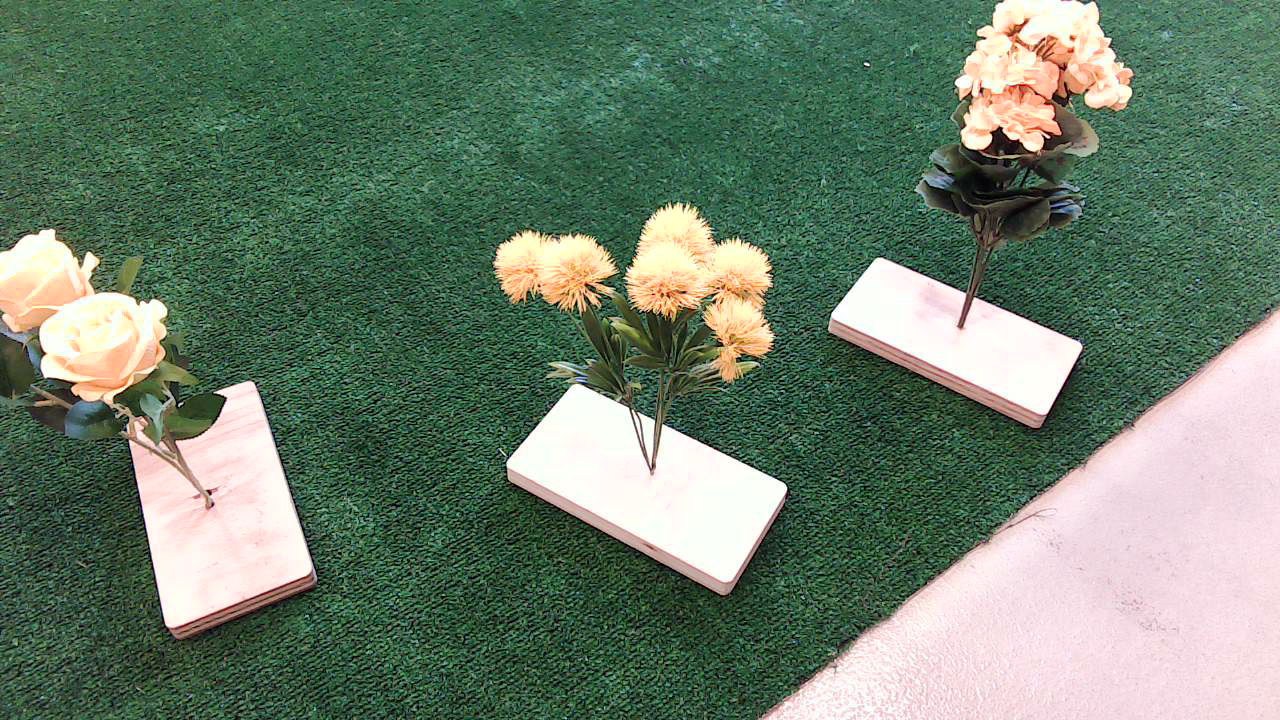dandelion: (446, 209, 803, 411)
geranium: (914, 4, 1159, 255)
rose: (6, 221, 331, 460)
